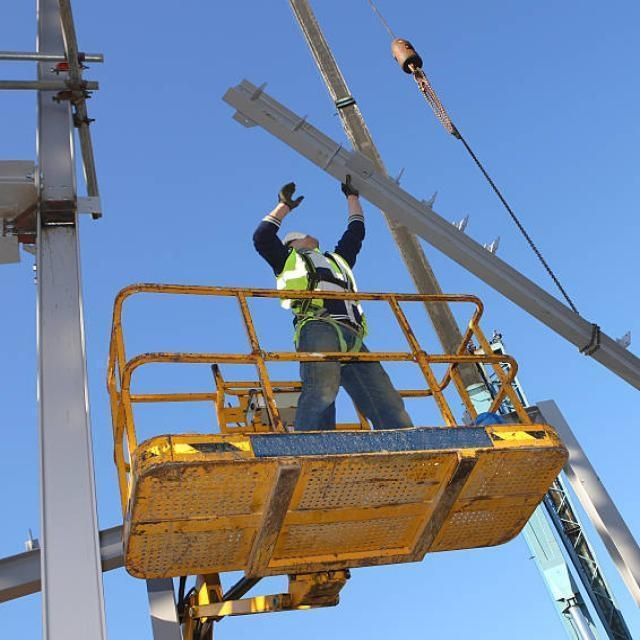Arnes_seguridad: (278, 246, 365, 359)
